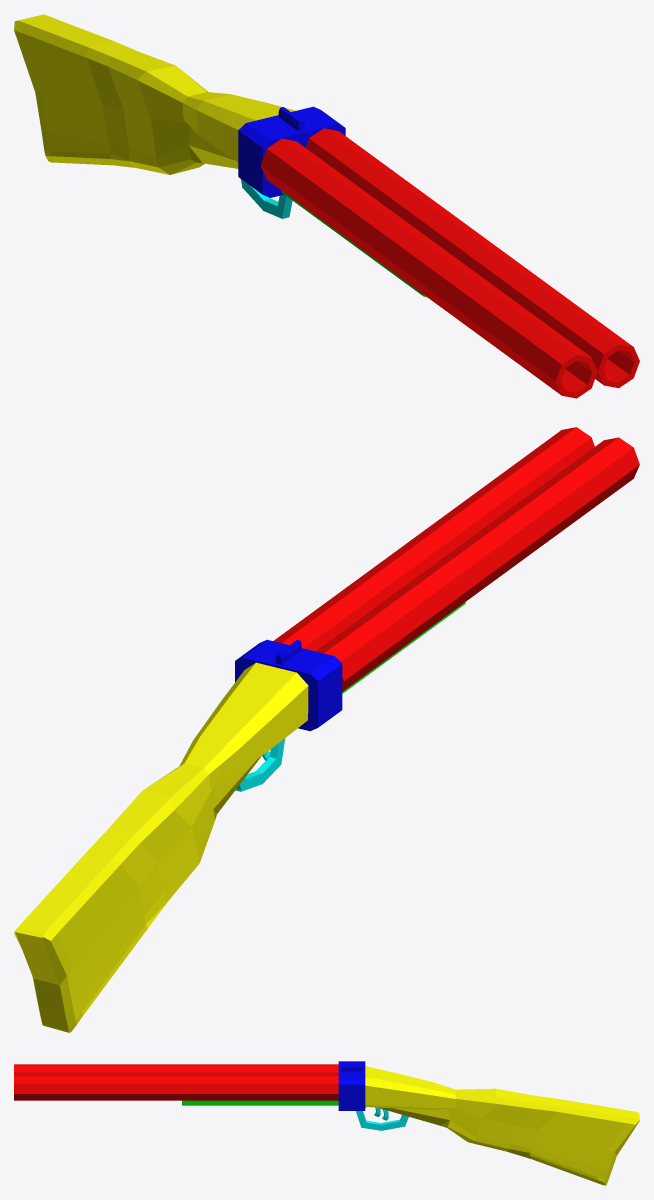
The model's file is shotgun3.fbx.
3 renders of one model, top to bottom at view 1: azimuth 30°, elevation 25°; view 2: azimuth 150°, elevation 25°; view 3: azimuth 270°, elevation 25°, orthographic. The views are drawn at different scales.
Parts seen in each view (by area): view 1: trigger 2; view 2: trigger 2; view 3: trigger 2.
Boxes of the visible parts, x1,y1,x2,y2 form: trigger 2: (14,14,639,398); trigger 2: (14,427,639,1032); trigger 2: (14,1061,639,1185).
Size of the model in its own units: 403 by 963 by 4680.
